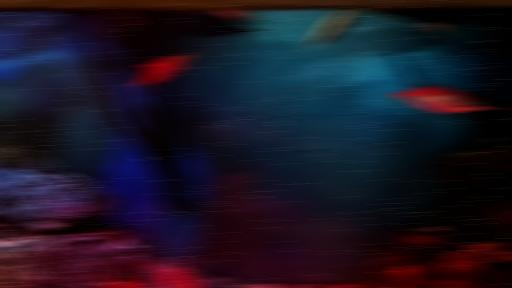Fish: (391, 80, 504, 113), (134, 49, 199, 93), (303, 9, 356, 52), (157, 265, 200, 287), (392, 264, 428, 287), (211, 9, 261, 24), (392, 265, 425, 287), (420, 23, 453, 38), (100, 276, 133, 287), (123, 11, 142, 27), (372, 285, 382, 287)
